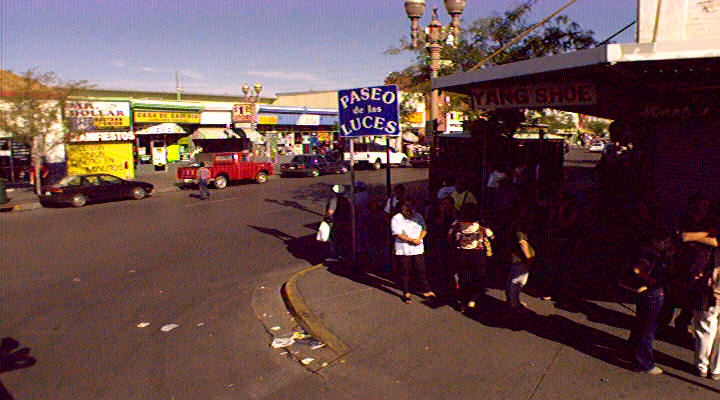Ramp: (327, 287, 639, 400)
